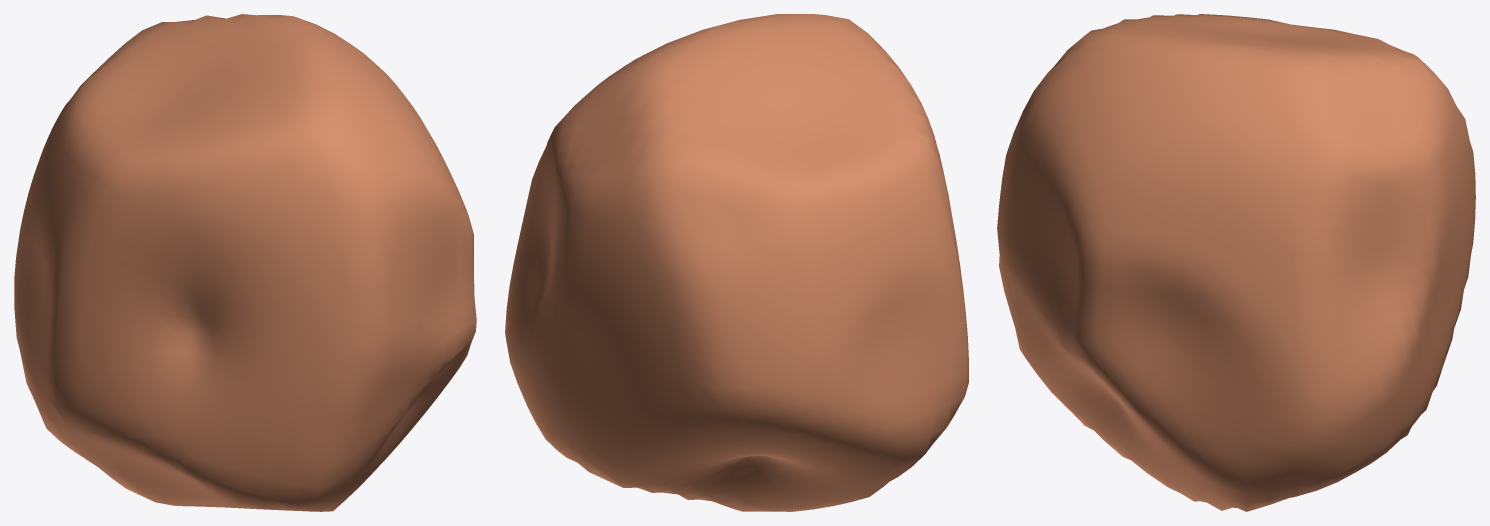
3 renders of one model, left to right at view 1: azimuth 30°, elevation 25°; view 2: azimuth 150°, elevation 25°; view 3: azimuth 270°, elevation 25°, orthographic.
Parts seen in each view (by area): view 1: Cube; view 2: Cube; view 3: Cube.
Boxes of the visible parts, left/top/right/bottom form: Cube: left=14, top=14, right=476, bottom=511; Cube: left=505, top=14, right=968, bottom=511; Cube: left=997, top=14, right=1475, bottom=511.
Bounding box in the file's own units: 109 × 116 × 111.
